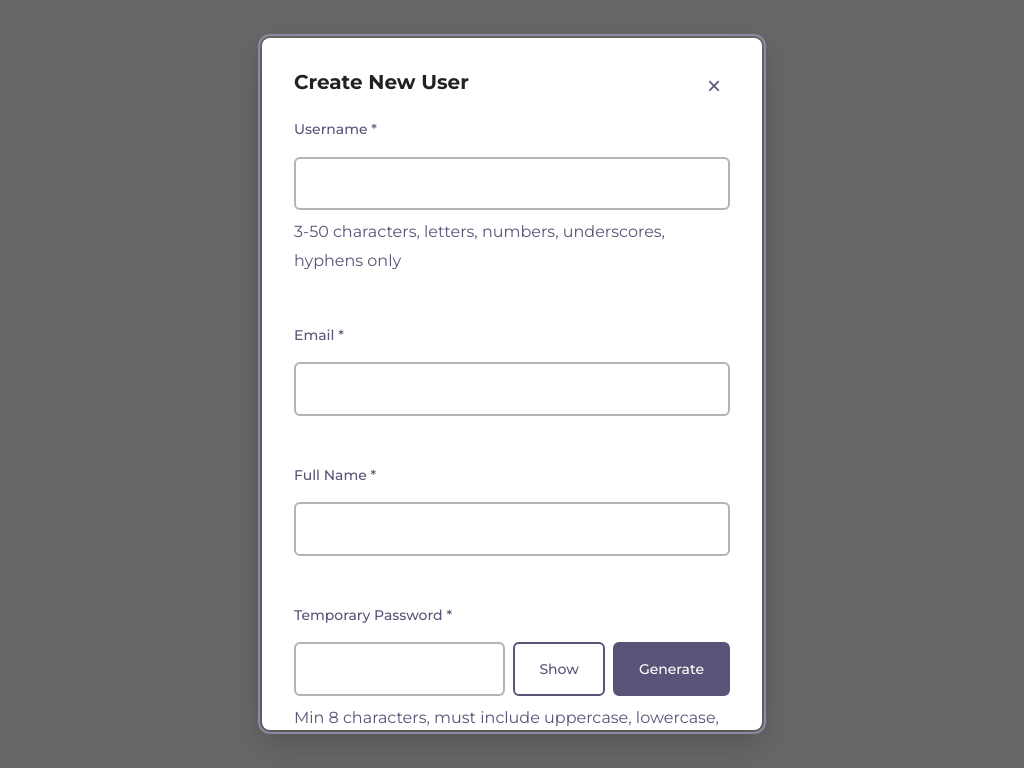
it: CreateUserDialog › Form Validation › validates password contains lowercase letter
In the field labelled "Username *": (512, 184) [294,157,730,210], type "testuser"
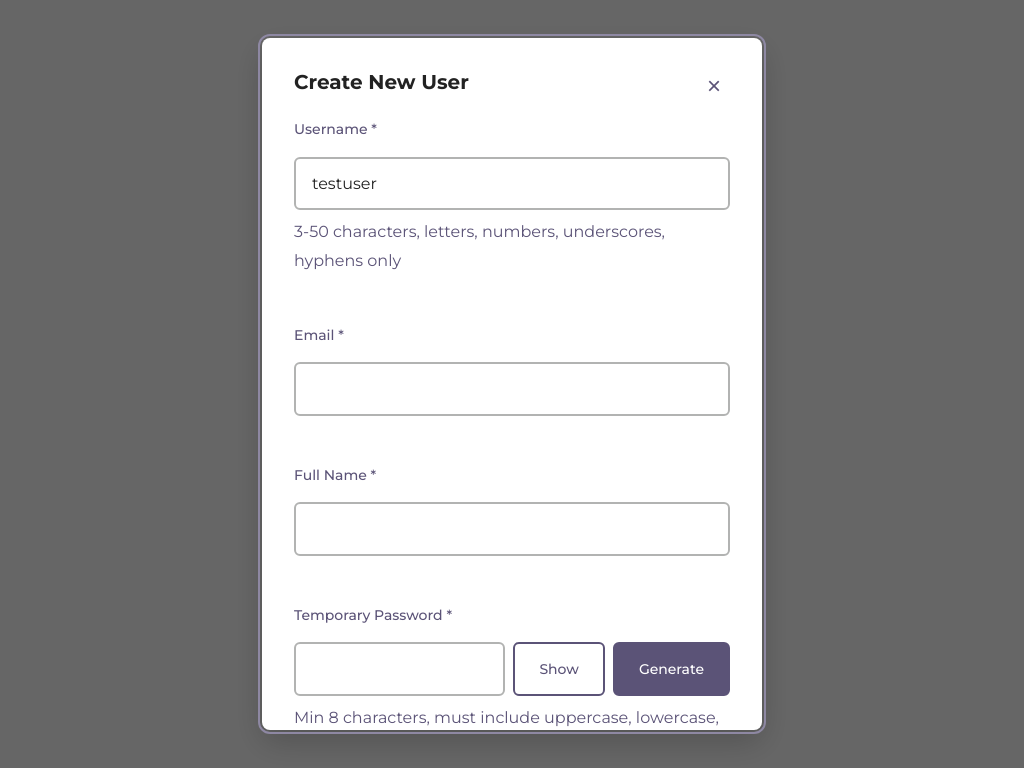
In the field labelled "Email *": (512, 389) [294,362,730,416], type "test@example.com"
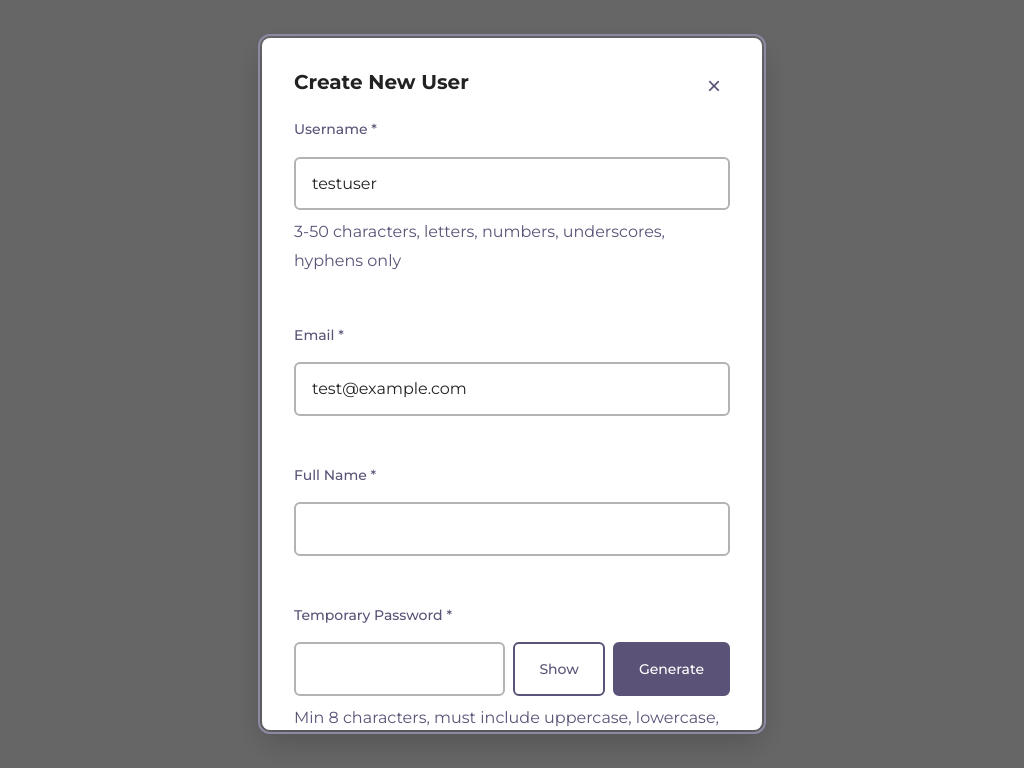
In the field labelled "Full Name *": (512, 529) [294,502,730,556], type "Test User"
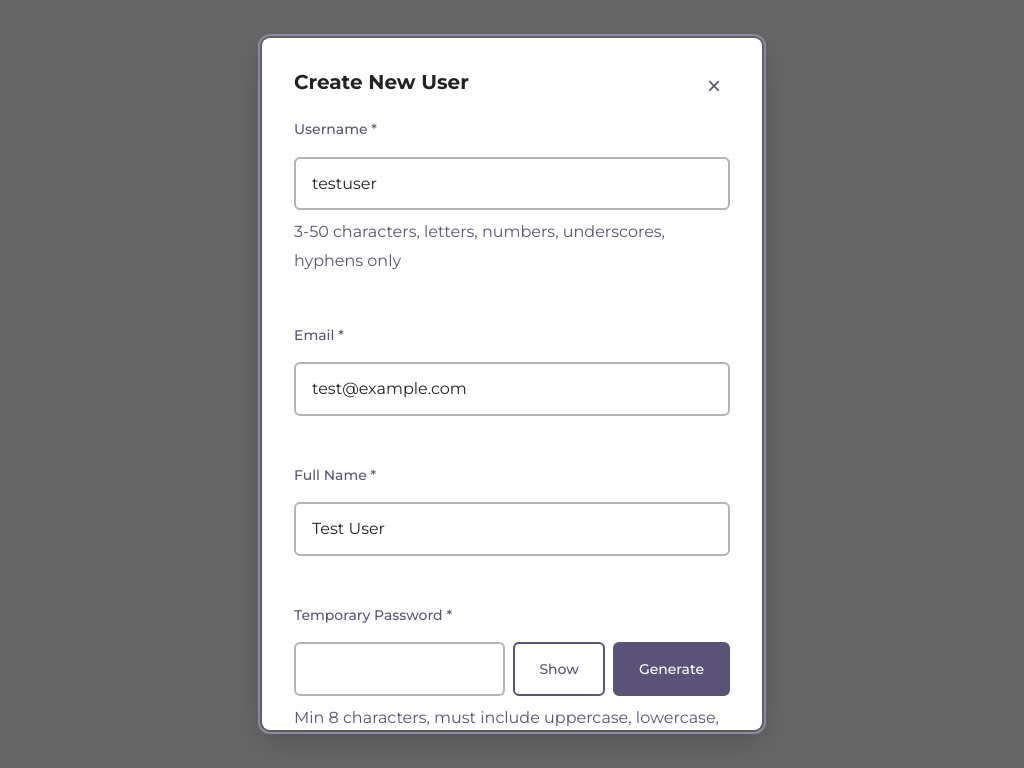
In the password field labelled "Temporary Password *": (400, 669) [294,642,505,696], type "UPPERCASE123"
(page scrolled)
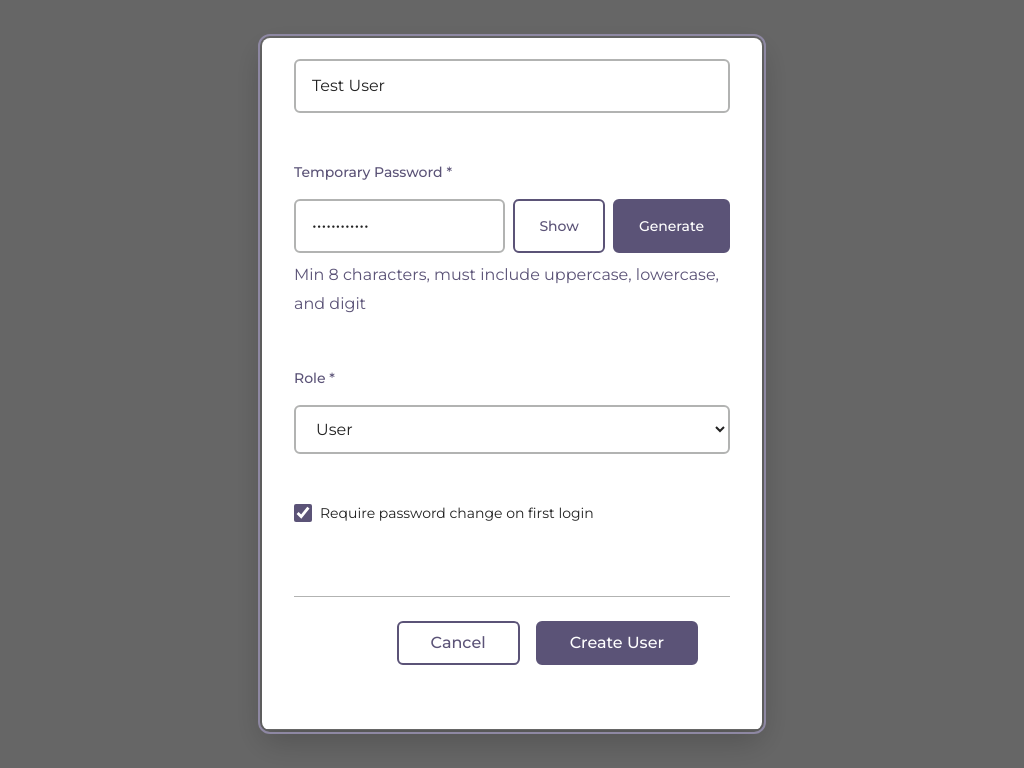
Click the button "Create User": (617, 643) [536,621,698,665]
(page scrolled)
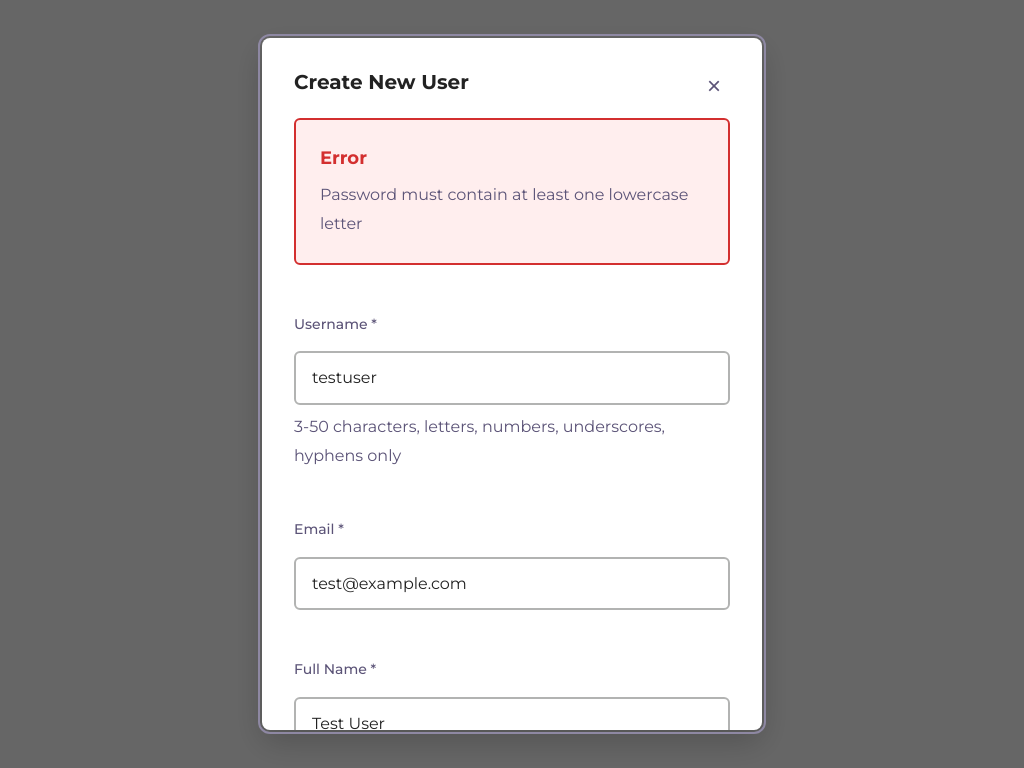
Expected: the text "Password must contain at least one lowercase letter" is shown, [320,181,704,239]
